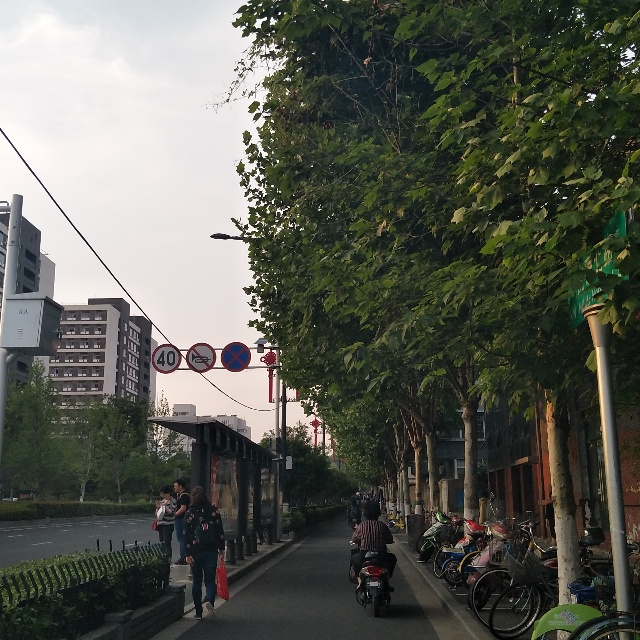nohonk: (182, 342, 218, 375)
stop: (219, 341, 253, 375)
